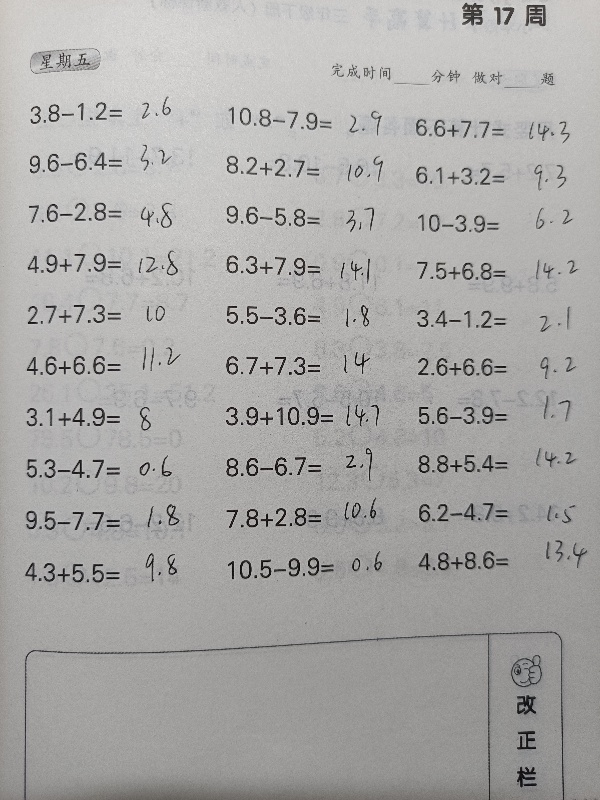equation: (218, 397, 398, 435), (16, 555, 196, 590), (219, 550, 399, 585), (409, 543, 589, 578), (17, 503, 197, 538), (218, 499, 398, 534), (18, 451, 198, 486), (216, 449, 396, 484), (217, 348, 397, 383), (18, 348, 198, 383), (19, 296, 199, 331), (20, 194, 200, 229), (20, 144, 200, 179), (409, 495, 589, 529), (410, 447, 590, 481), (18, 400, 198, 434), (410, 350, 590, 384), (217, 298, 397, 332), (408, 254, 588, 288), (217, 248, 397, 282), (18, 246, 198, 280), (408, 206, 588, 240), (217, 199, 397, 233), (217, 150, 397, 184), (406, 111, 586, 145), (219, 101, 399, 135), (21, 95, 201, 129), (410, 399, 590, 432), (408, 302, 588, 335), (406, 159, 586, 192)
